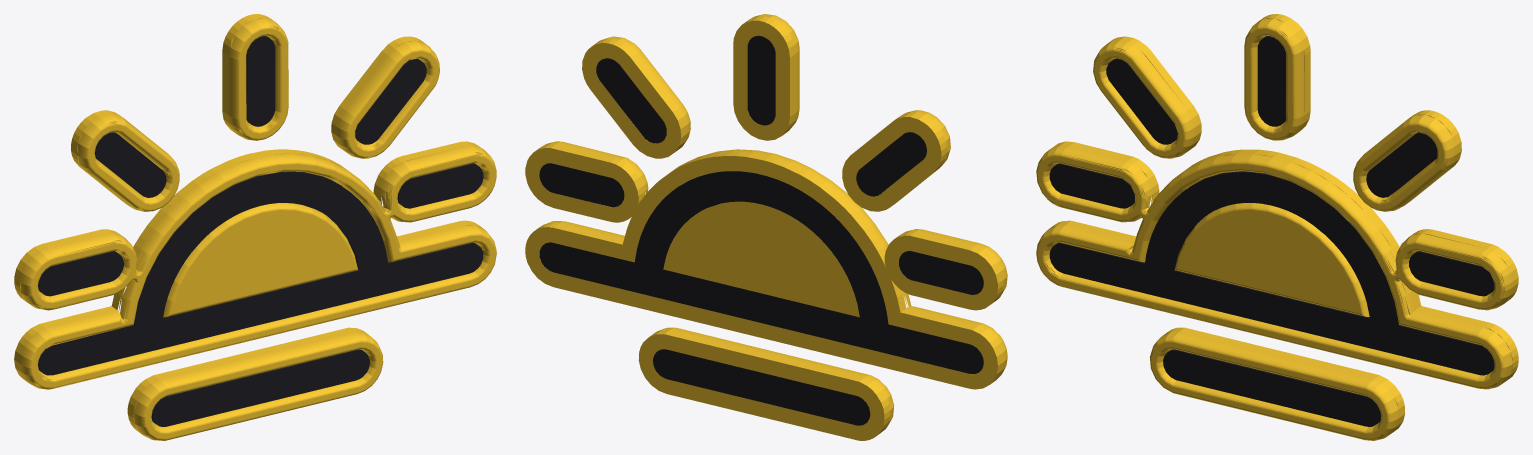
Rendered from early_bird_t3.glb.
3 views of the same model, side by side, from view 1: azimuth 30°, elevation 25°; view 2: azimuth 150°, elevation 25°; view 3: azimuth 330°, elevation 25° (orthographic).
Parts seen in each view (by area): view 1: mark, mark_channel; view 2: mark, mark_channel; view 3: mark, mark_channel.
Part boxes in pixels (left/top/right/bottom): mark: left=14, top=14, right=496, bottom=440; mark_channel: left=38, top=36, right=483, bottom=426; mark: left=525, top=14, right=1007, bottom=440; mark_channel: left=539, top=35, right=983, bottom=425; mark: left=1036, top=14, right=1518, bottom=440; mark_channel: left=1049, top=36, right=1494, bottom=426.
Bounding box in the file's own units: 0.5 × 0.3999 × 0.024.
